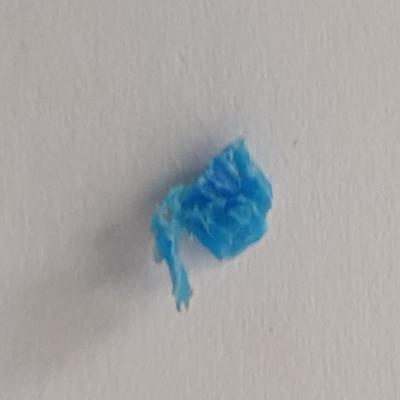plastic: (138, 130, 286, 318)
